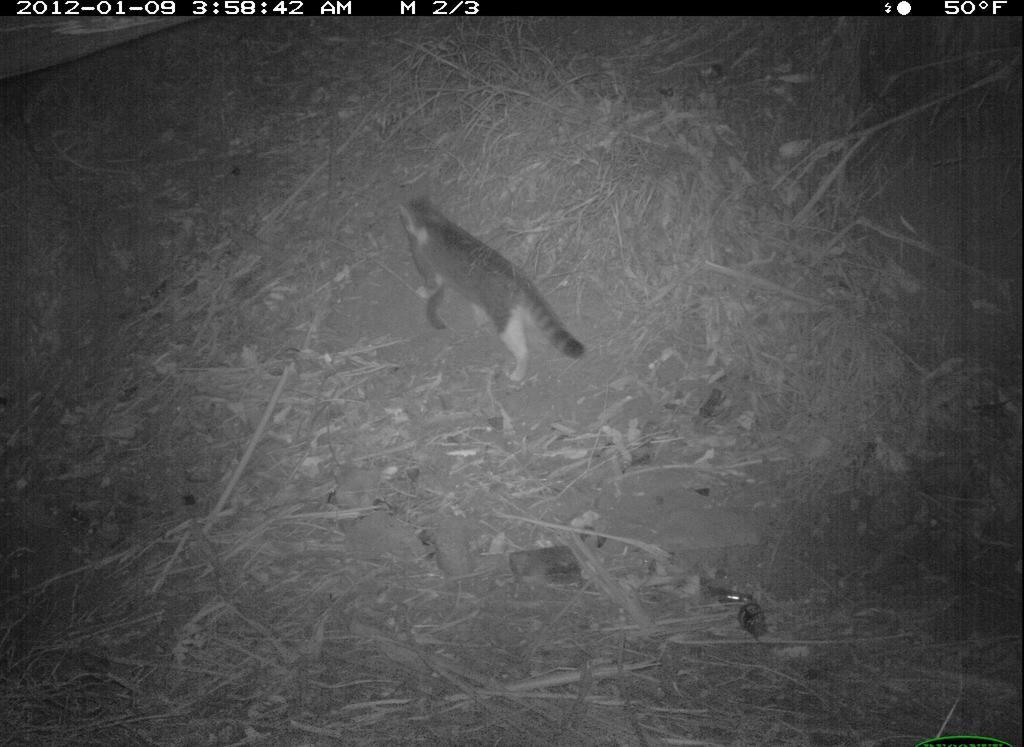cat: (388, 182, 585, 379)
